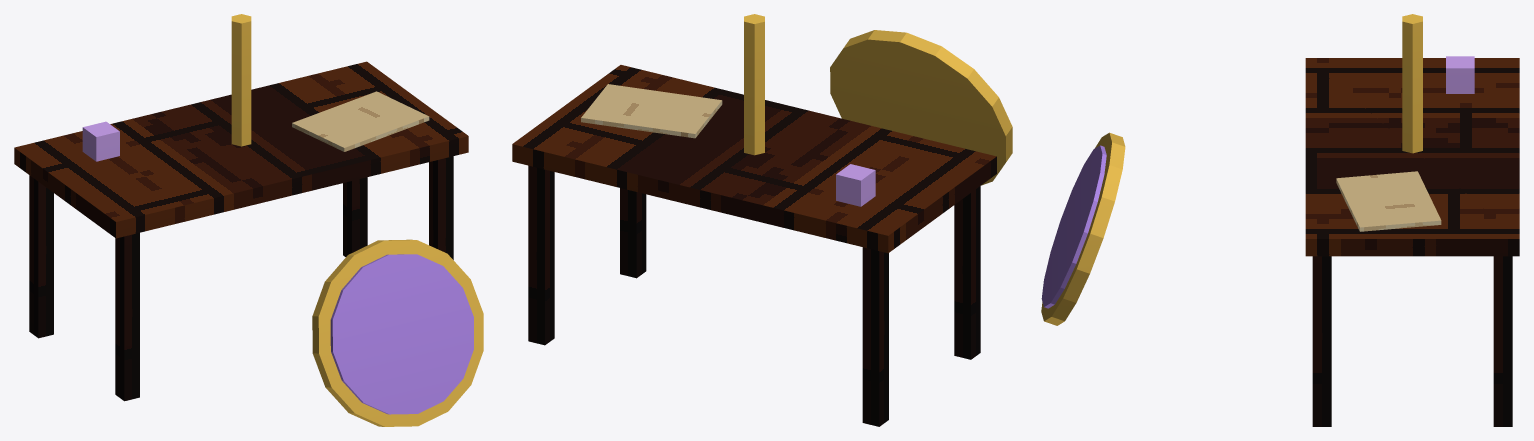
File: lens_table.glb
3 renders of one model, left to right at view 1: azimuth 30°, elevation 25°; view 2: azimuth 150°, elevation 25°; view 3: azimuth 270°, elevation 25°, orthographic. The views are drawn at different scales.
Parts seen in each view (by area): view 1: lens_table; view 2: lens_table; view 3: lens_table.
Part boxes in pixels (x1,y1,x2,y2): lens_table: (14,14,483,426); lens_table: (512,14,1012,426); lens_table: (1041,14,1519,426).
Size of the model in its own units: 1.8 by 1.5 by 2.01.
Materials: 4 (2 with a texture image).
